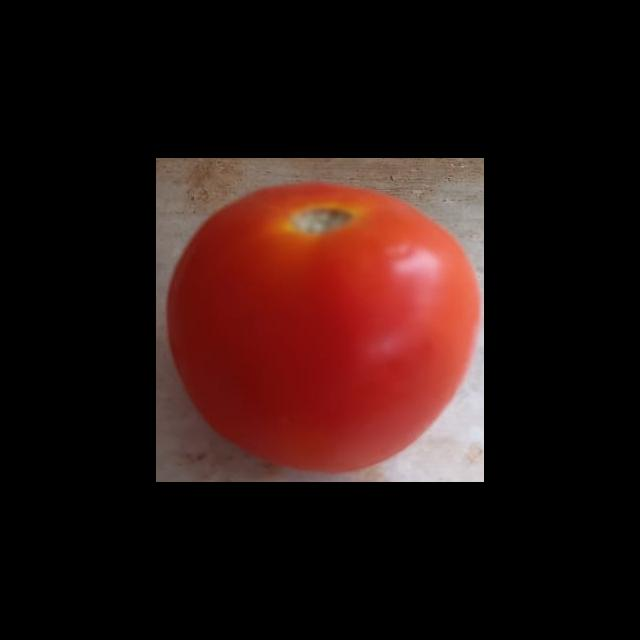tomato: (172, 170, 482, 463)
